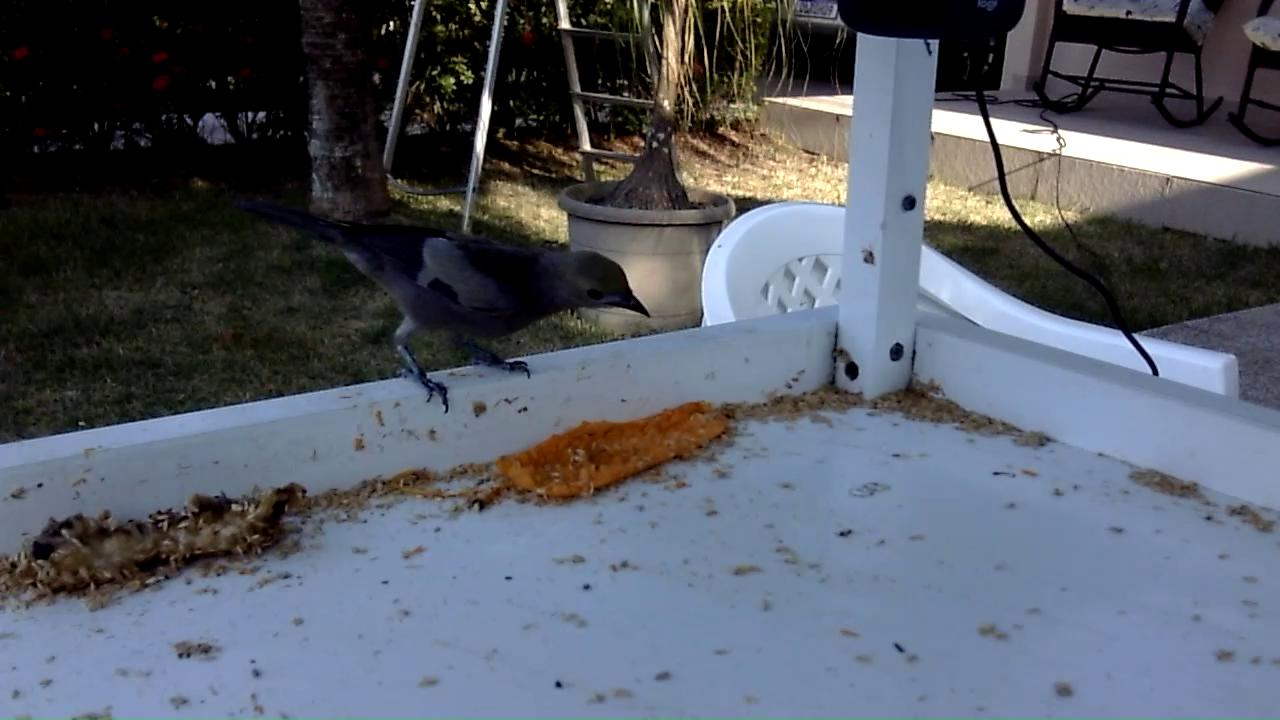sanhaco_do_coqueiro: (251, 199, 655, 420)
